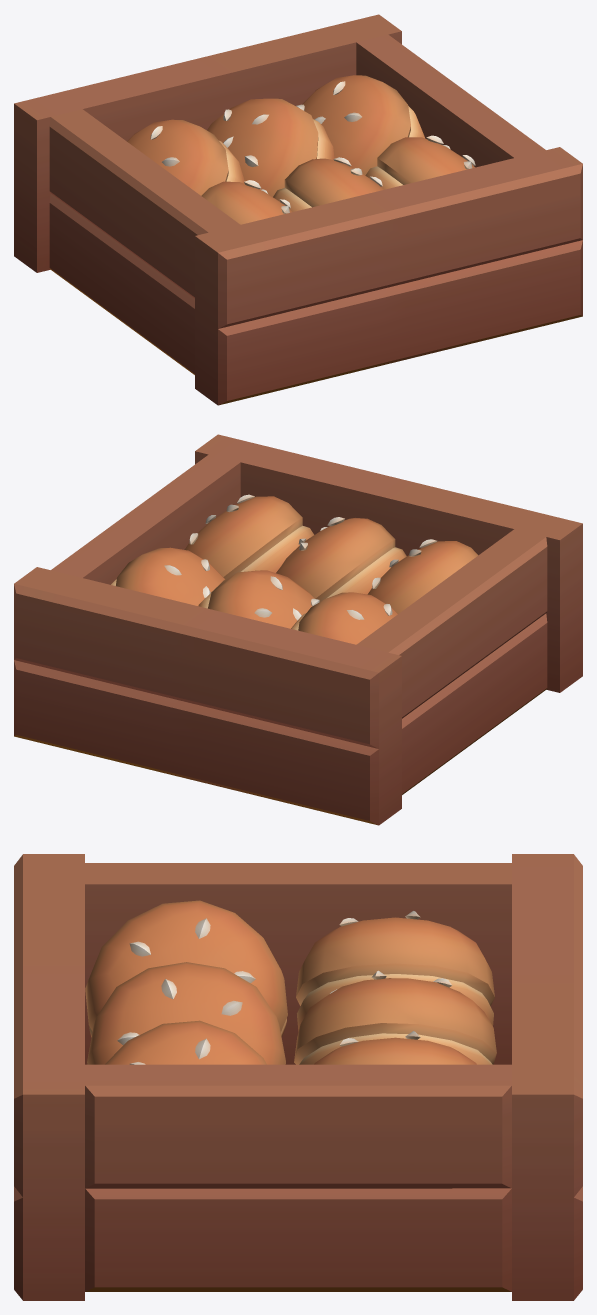
The model's file is kay-caixa-paes.gltf.
The picture shows the model from 3 angles, top to bottom: view 1: azimuth 30°, elevation 25°; view 2: azimuth 150°, elevation 25°; view 3: azimuth 270°, elevation 25°; orthographic projection. The views are drawn at different scales.
Visible parts, largest first — view 1: crate_buns; view 2: crate_buns; view 3: crate_buns.
Boxes of the visible parts, x1,y1,x2,y2 form: crate_buns: (14, 14, 582, 405); crate_buns: (14, 434, 582, 825); crate_buns: (14, 854, 582, 1300).
Bounding box in the file's own units: 1.3 × 0.5215 × 1.3.
1 material, 1 textured.
